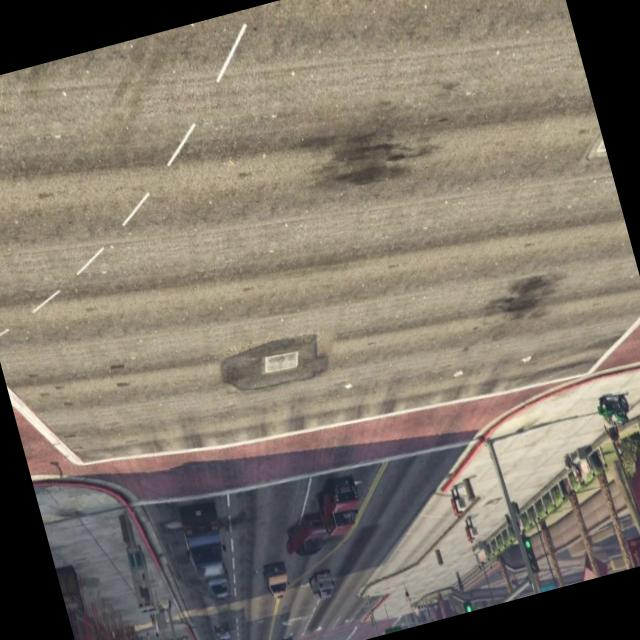Green-Signal: (514, 524, 549, 590), (447, 578, 484, 616), (374, 610, 407, 636)
